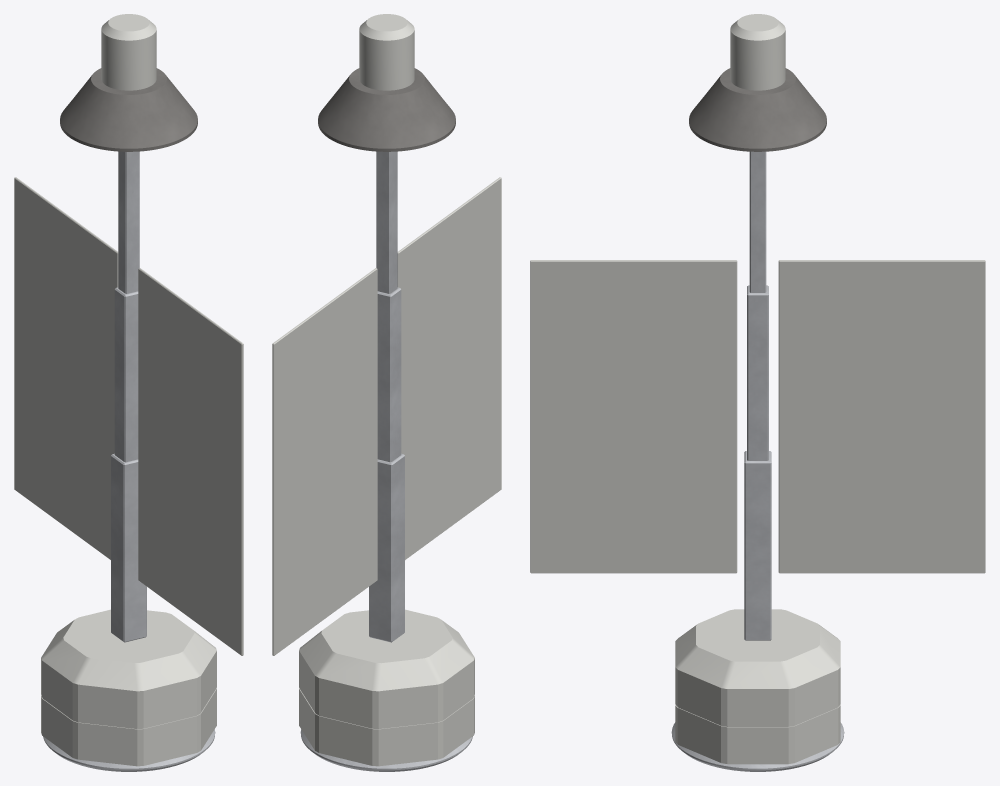
The model's file is ax_power_08_orbital_reactor_100_deployed.glb.
3 views of the same model, side by side, from view 1: azimuth 30°, elevation 25°; view 2: azimuth 150°, elevation 25°; view 3: azimuth 270°, elevation 25° (orthographic).
Visible parts, largest first — view 1: panel_radiators, brayton_bus, boom, shadow_shield, reactor_core, mount_ring; view 2: panel_radiators, brayton_bus, boom, shadow_shield, reactor_core, mount_ring; view 3: panel_radiators, brayton_bus, boom, shadow_shield, reactor_core, mount_ring.
Boxes of the visible parts, <box> form: panel_radiators: <box>14,177,243,655</box>; brayton_bus: <box>41,609,216,766</box>; boom: <box>111,151,146,642</box>; shadow_shield: <box>60,68,197,151</box>; reactor_core: <box>101,14,156,90</box>; mount_ring: <box>43,729,215,771</box>; panel_radiators: <box>272,177,501,655</box>; brayton_bus: <box>299,609,474,766</box>; boom: <box>369,151,404,642</box>; shadow_shield: <box>318,68,455,151</box>; reactor_core: <box>359,14,414,90</box>; mount_ring: <box>300,729,472,771</box>; panel_radiators: <box>530,260,985,573</box>; brayton_bus: <box>675,609,840,764</box>; boom: <box>744,151,771,640</box>; shadow_shield: <box>689,68,826,151</box>; reactor_core: <box>730,14,785,90</box>; mount_ring: <box>671,722,844,771</box>.
Bounding box in the file's own units: 2.5 × 11.43 × 6.6.
3 materials, 2 textured.
